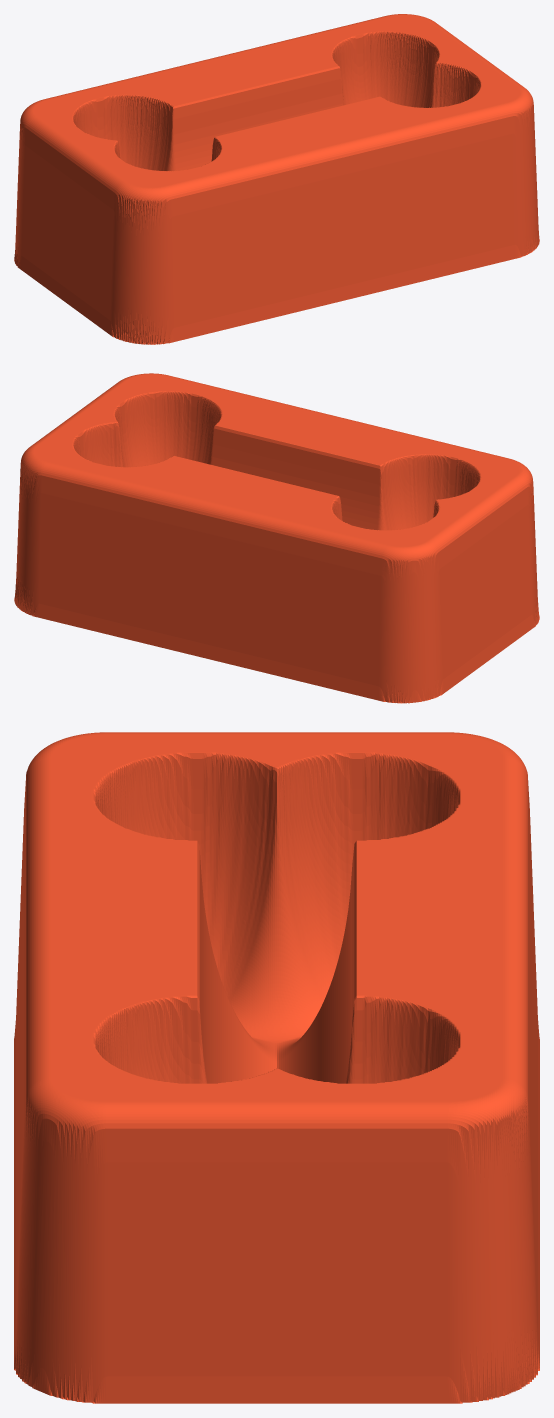
The model's file is mold.glb.
3 renders of one model, top to bottom at view 1: azimuth 30°, elevation 25°; view 2: azimuth 150°, elevation 25°; view 3: azimuth 270°, elevation 25°, orthographic. The views are drawn at different scales.
Visible parts, largest first — view 1: geometry_0; view 2: geometry_0; view 3: geometry_0.
Part boxes in pixels (x1,y1,x2,y2): geometry_0: [14, 14, 539, 344]; geometry_0: [14, 373, 539, 703]; geometry_0: [14, 732, 539, 1403].
Bounding box in the file's own units: 0.0924 × 0.031 × 0.0516.
